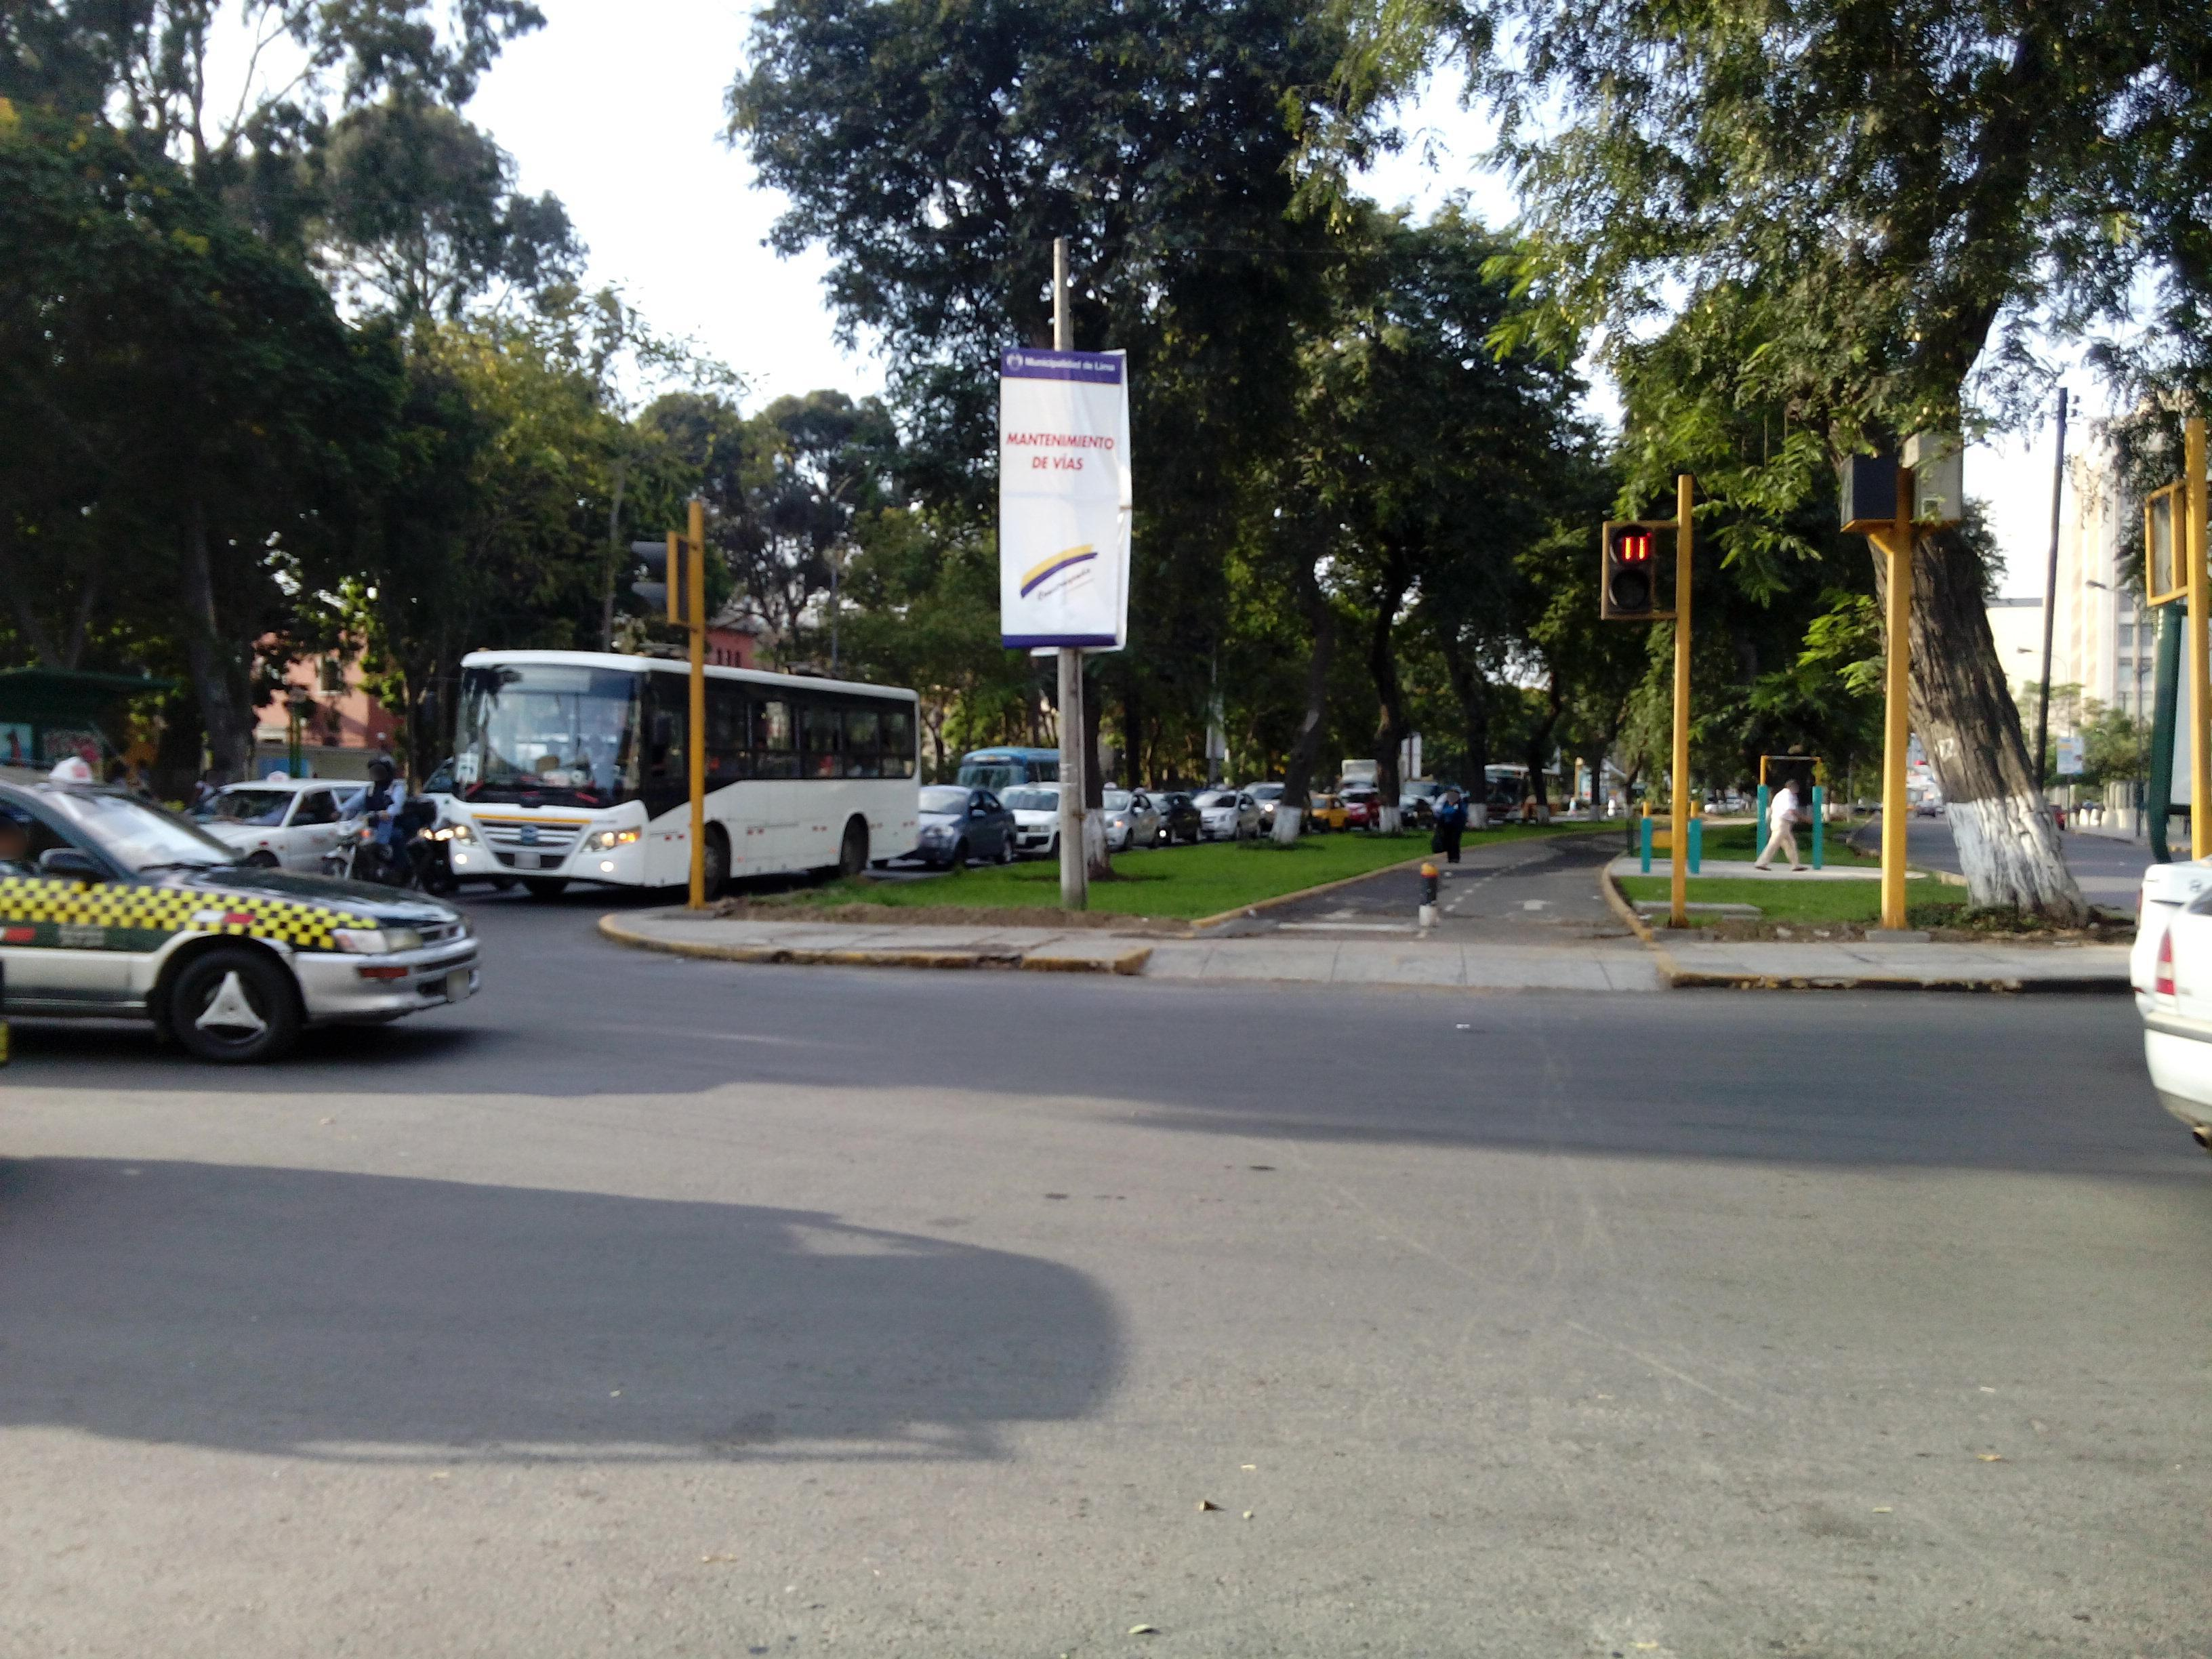vinyl banner: (968, 329, 1146, 678)
